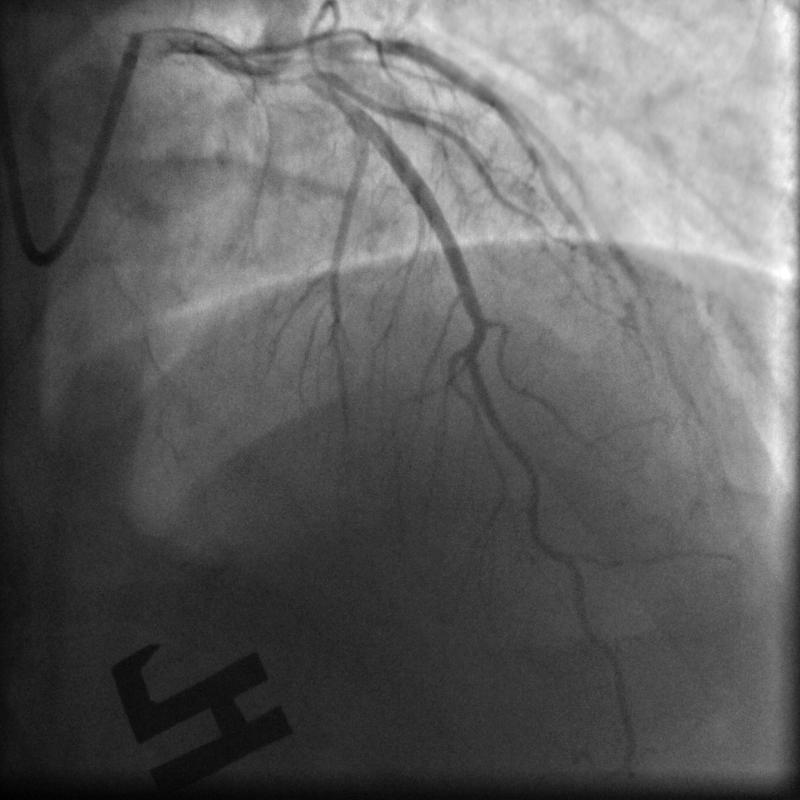Stenosis: (254, 61, 320, 93)
